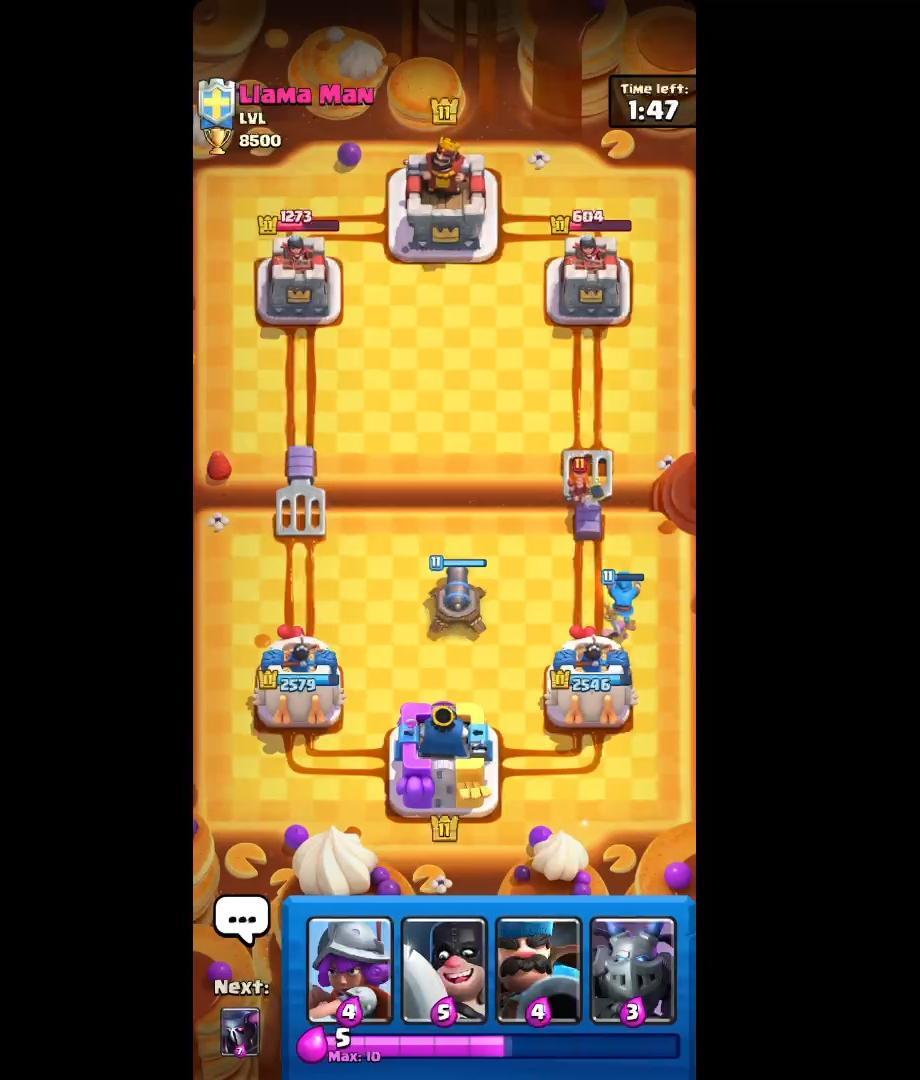Valkyrie: (558, 453, 605, 516)
